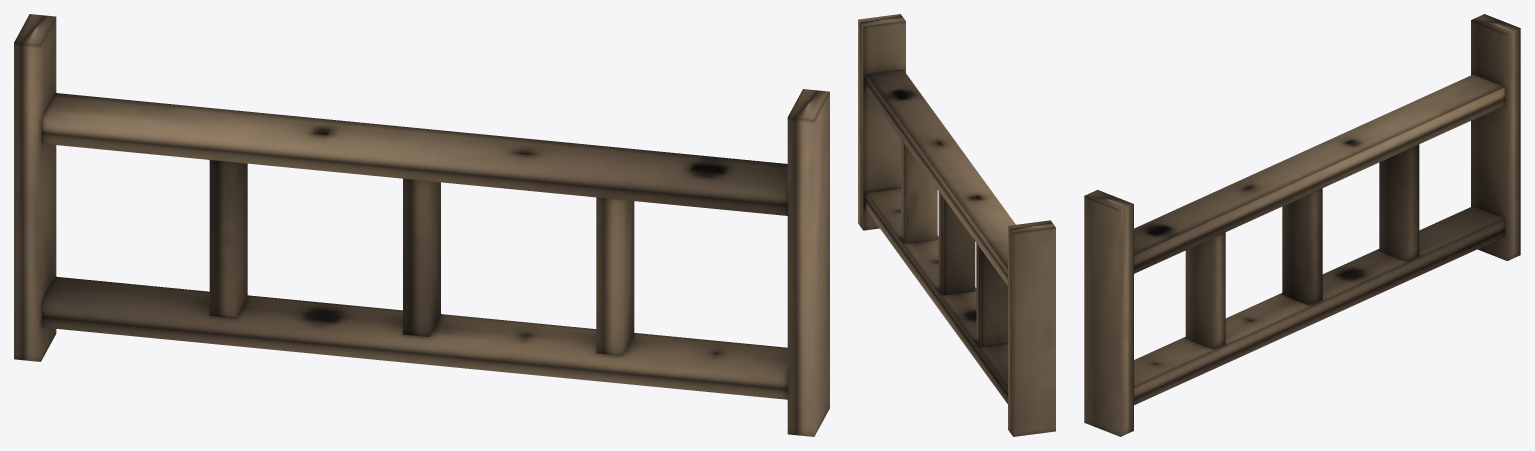
The model's file is Staff Rack.fbx.
3 views of the same model, side by side, from view 1: azimuth 30°, elevation 25°; view 2: azimuth 150°, elevation 25°; view 3: azimuth 270°, elevation 25° (orthographic). The views are drawn at different scales.
Visible parts, largest first — view 1: Mage_stave_rack.001; view 2: Mage_stave_rack.001; view 3: Mage_stave_rack.001.
Part boxes in pixels (x1=…): Mage_stave_rack.001: x1=14, y1=14, x2=829, y2=436; Mage_stave_rack.001: x1=858, y1=14, x2=1055, y2=436; Mage_stave_rack.001: x1=1084, y1=14, x2=1520, y2=436.
Bounding box in the file's own units: 2.02 × 1.09 × 1.9.
